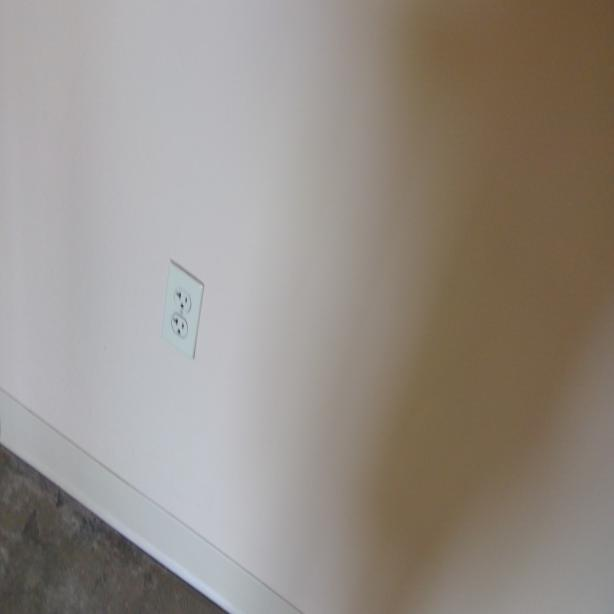typeb: (170, 312, 190, 338), (174, 287, 191, 314)
